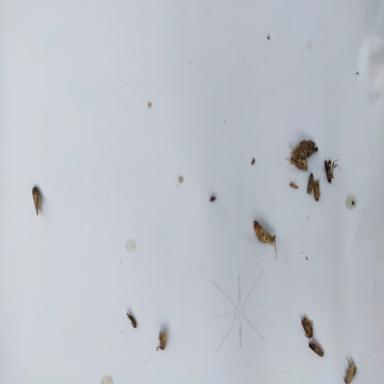pbw: (324, 158, 342, 184), (345, 356, 357, 384), (301, 316, 314, 339), (312, 174, 322, 202), (308, 340, 324, 357), (32, 186, 41, 216), (156, 327, 166, 351), (307, 174, 314, 195)
